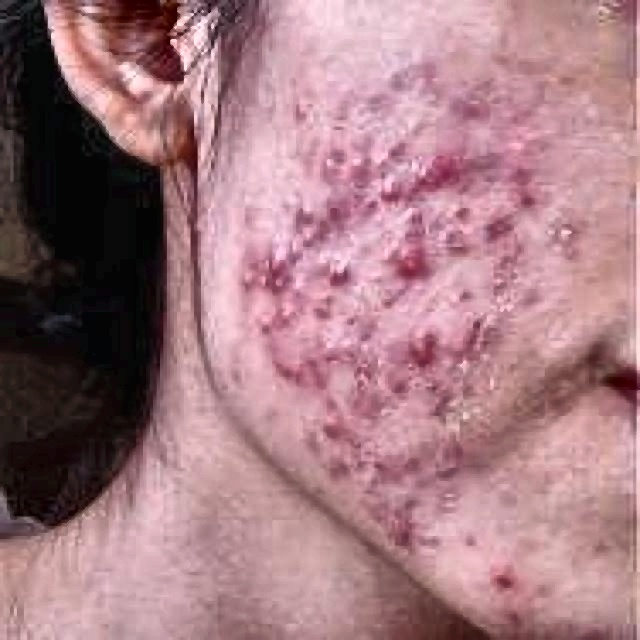papule: (218, 254, 265, 302), (337, 306, 392, 344), (419, 377, 473, 412), (473, 214, 521, 253), (511, 182, 552, 227), (473, 556, 514, 601), (364, 445, 402, 491), (347, 384, 388, 426), (419, 153, 470, 185), (303, 406, 344, 445), (398, 244, 436, 286), (398, 331, 439, 367), (317, 260, 364, 289), (429, 445, 466, 481), (456, 309, 494, 344), (368, 62, 405, 97), (368, 169, 408, 201), (286, 208, 320, 244), (256, 267, 290, 302), (358, 500, 392, 533), (306, 328, 344, 357), (282, 88, 316, 120), (348, 156, 382, 185), (259, 296, 296, 322), (303, 292, 334, 322), (442, 88, 477, 114), (432, 198, 467, 224), (296, 358, 327, 387), (508, 152, 542, 178), (262, 344, 296, 370), (439, 282, 473, 308), (252, 247, 289, 270), (323, 198, 358, 221), (323, 452, 348, 484), (395, 208, 422, 237), (395, 445, 425, 471), (303, 140, 344, 159), (405, 52, 432, 78), (384, 367, 408, 396), (354, 357, 381, 380), (439, 231, 460, 253), (392, 523, 405, 552)
